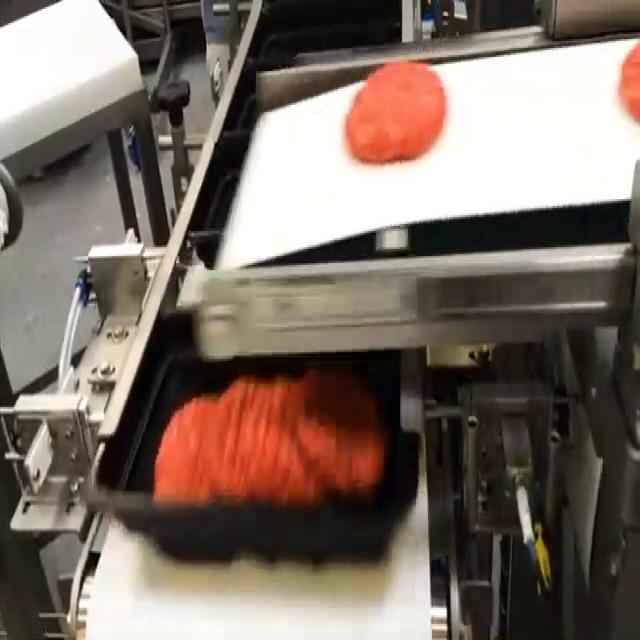4-hamburguer: (154, 373, 387, 505)
